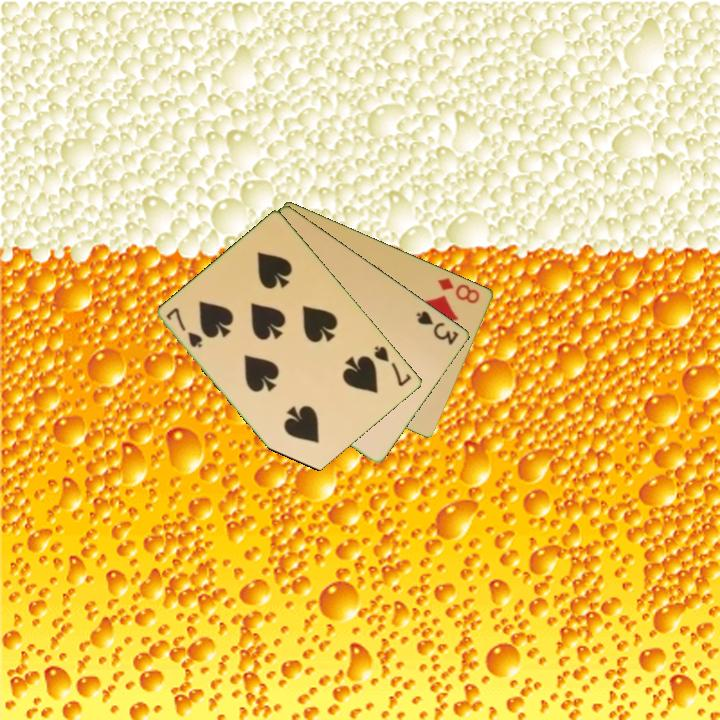3s: (413, 307, 462, 348)
7s: (371, 342, 415, 389), (163, 304, 206, 351)
8d: (434, 274, 483, 307)
